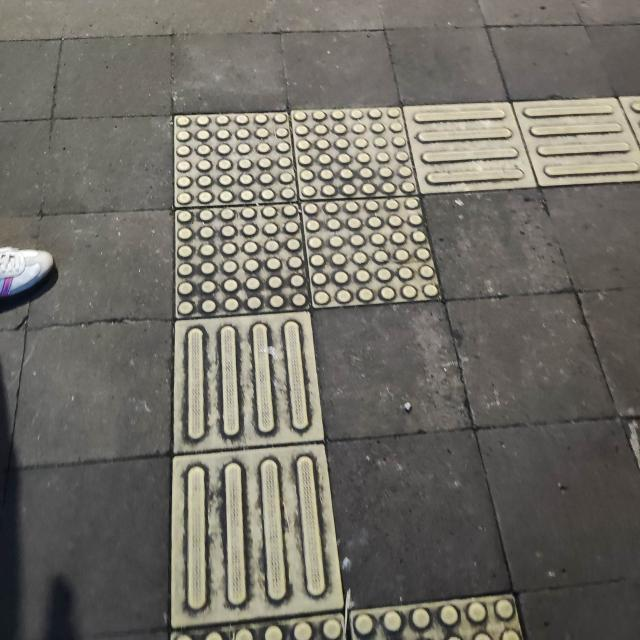kanan: (127, 67, 602, 358)
